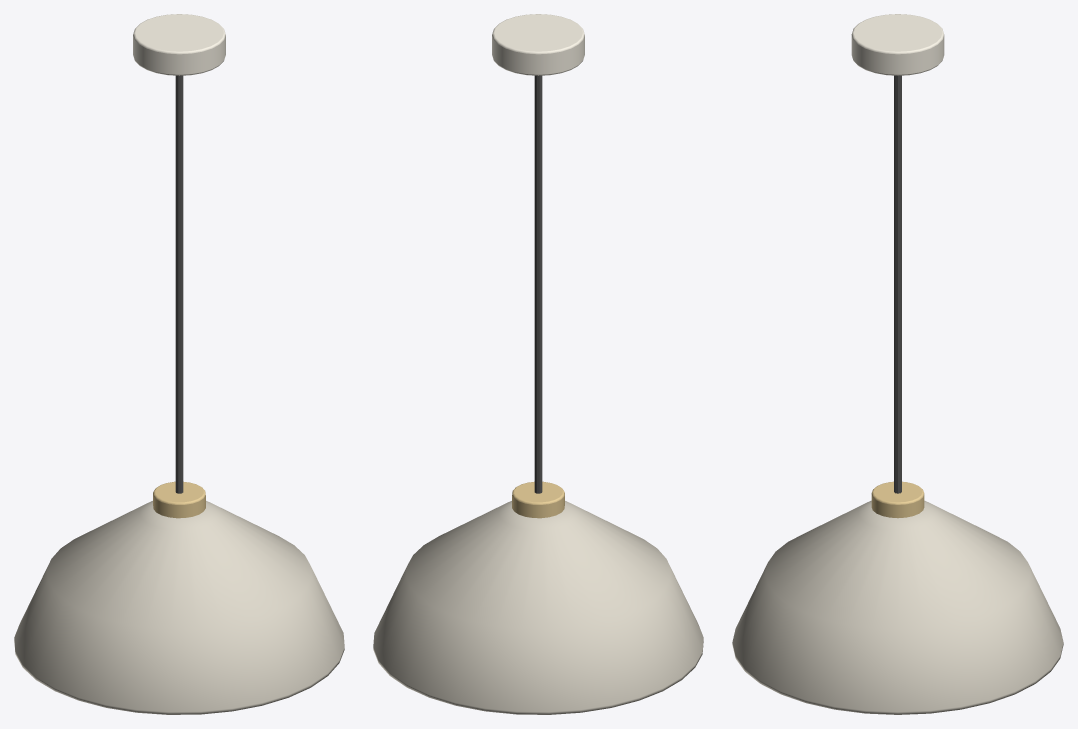
Rendered from dn_pendant.fbx.
The picture shows the model from 3 angles, left to right: view 1: azimuth 30°, elevation 25°; view 2: azimuth 150°, elevation 25°; view 3: azimuth 270°, elevation 25°; orthographic projection.
Parts seen in each view (by area): view 1: Shade, Rose, Cord, Cap; view 2: Shade, Rose, Cord, Cap; view 3: Shade, Rose, Cord, Cap.
Boxes of the visible parts, x1=… form: Shade: x1=14, y1=501, x2=344, y2=714; Rose: x1=133, y1=14, x2=225, y2=75; Cord: x1=175, y1=75, x2=183, y2=493; Cap: x1=153, y1=481, x2=205, y2=518; Shade: x1=373, y1=501, x2=703, y2=714; Rose: x1=492, y1=14, x2=584, y2=75; Cord: x1=534, y1=75, x2=542, y2=493; Cap: x1=512, y1=481, x2=564, y2=518; Shade: x1=732, y1=500, x2=1063, y2=714; Rose: x1=851, y1=14, x2=944, y2=75; Cord: x1=894, y1=75, x2=901, y2=493; Cap: x1=871, y1=481, x2=924, y2=518.
Bounding box in the file's own units: 0.5 × 1.02 × 0.5.
